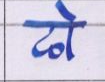o_matra: (65, 5, 76, 60)
